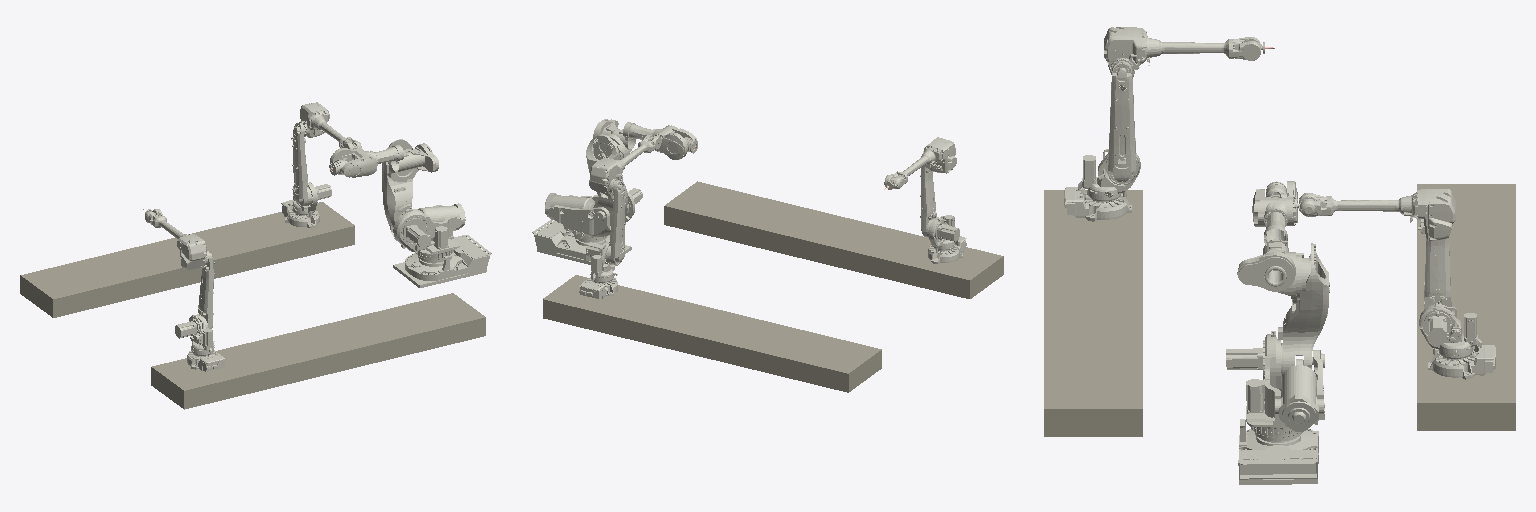
--- Facts derived from the render (not from the file) ---
Views: 3 orthographic renders of the robot side by side, from view 1: azimuth 30°, elevation 25°; view 2: azimuth 150°, elevation 25°; view 3: azimuth 270°, elevation 25°.
Model princeton_3rob_cell with 39 links and 38 joints (18 revolute, 2 prismatic, 18 fixed), rooted at world, posed all joints at 0.
Visible links, largest first — view 1: r2_axis, r1_axis, r3_base_link, r3_link_1, r3_link_4, r3_link_2, r3_link_3, r1_link_2, r2_link_1, r2_link_3, r2_link_2, r1_link_3 (+4 smaller); view 2: r1_axis, r2_axis, r3_link_1, r3_base_link, r3_link_4, r1_link_2, r3_link_2, r1_link_3, r2_link_1, r1_link_1, r2_link_3, r2_link_2 (+4 smaller); view 3: r2_axis, r1_axis, r3_link_1, r3_base_link, r3_link_2, r2_link_2, r3_link_3, r1_link_1, r3_balancer_piston, r1_link_3, r3_link_4, r2_link_3 (+6 smaller).
Boxes of the visible links, x1,y1,x2,y2 form: r2_axis: [151, 293, 485, 409]; r1_axis: [20, 202, 354, 317]; r3_base_link: [393, 235, 491, 287]; r3_link_1: [389, 205, 461, 262]; r3_link_4: [330, 145, 403, 177]; r3_link_2: [382, 139, 412, 227]; r3_link_3: [387, 143, 438, 181]; r1_link_2: [291, 123, 308, 206]; r2_link_1: [175, 314, 214, 356]; r2_link_3: [177, 234, 207, 269]; r2_link_2: [198, 251, 214, 328]; r1_link_3: [299, 102, 329, 137]; r1_axis: [543, 275, 881, 392]; r2_axis: [664, 181, 1003, 298]; r3_link_1: [548, 188, 642, 241]; r3_base_link: [532, 220, 631, 264]; r3_link_4: [623, 122, 696, 159]; r1_link_2: [609, 180, 627, 265]; r3_link_2: [586, 134, 627, 219]; r1_link_3: [589, 158, 624, 195]; r2_link_1: [927, 215, 959, 252]; r1_link_1: [586, 241, 617, 283]; r2_link_3: [923, 137, 956, 173]; r2_link_2: [920, 166, 936, 237]; r2_axis: [1044, 190, 1142, 436]; r1_axis: [1417, 184, 1515, 430]; r3_link_1: [1226, 331, 1324, 441]; r3_base_link: [1238, 419, 1318, 484]; r3_link_2: [1278, 243, 1329, 376]; r2_link_2: [1108, 61, 1135, 184]; r3_link_3: [1237, 239, 1310, 304]; r1_link_1: [1419, 301, 1481, 360]; r3_balancer_piston: [1279, 359, 1318, 431]; r1_link_3: [1402, 189, 1455, 240]; r3_link_4: [1252, 181, 1297, 245]; r2_link_3: [1104, 27, 1155, 76].
Bounding box of the posed robot: 6.41 × 4.62 × 2.32 m (x, y, z).
Meshes: 20 distinct files referenced, 27 mesh visuals loaded (19 binary STL); not drawn: 2 (reference not matched to a file when rendering).

The robot description file, URDF, robot "princeton_3rob_cell":
<?xml version="1.0" ?>
<!-- =================================================================================== -->
<!-- |    This document was autogenerated by xacro from princeton_3rob_cell.xacro      | -->
<!-- |    EDITING THIS FILE BY HAND IS NOT RECOMMENDED                                 | -->
<!-- =================================================================================== -->
<robot name="princeton_3rob_cell">
  <!-- Conversion were obtained from http://www.e-paint.co.uk/Lab_values.asp
       unless otherwise stated. -->
  <link name="world"/>
  <!-- -->
  <!--ROBOT 1-->
  <joint name="r1_world_joint" type="fixed">
    <parent link="world"/>
    <child link="r1_axis"/>
    <origin rpy="0.0 0.0 3.14159" xyz="3.6970 3.4496 0.0165"/>
  </joint>
  <!-- Conversion were obtained from http://www.e-paint.co.uk/Lab_values.asp
       unless otherwise stated. -->
  <!-- Conversion were obtained from http://www.e-paint.co.uk/Lab_values.asp
       unless otherwise stated. -->
  <!-- LINEAR AXIS -->
  <!-- linear axis link list -->
  <link name="r1_axis">
    <inertial>
      <origin xyz="0.0 0.0 0.0"/>
      <mass value="120"/>
      <inertia ixx="-4.98000" ixy="-0.00000" ixz="2.70000" iyy="-5.95200" iyz="-0.00000" izz="0.82800"/>
    </inertial>
    <visual>
      <geometry>
        <mesh filename="package://abb_on_axis/meshes/visual/axis.stl"/>
      </geometry>
      <material name="">
        <color rgba="0.7058823 0.6901961 0.6313725 1"/>
      </material>
    </visual>
    <collision>
      <geometry>
        <mesh filename="package://abb_on_axis/meshes/collision/axis.stl"/>
      </geometry>
      <material name="">
        <color rgba="0.7058823 0.6901961 0.6313725 1"/>
      </material>
    </collision>
  </link>
  <link name="r1_cart">
    <inertial>
      <origin xyz="0.0 0.0 0.0"/>
      <mass value="120.00000"/>
      <inertia ixx="-4.98000" ixy="-0.00000" ixz="2.70000" iyy="-5.95200" iyz="-0.00000" izz="0.82800"/>
    </inertial>
    <visual>
      <geometry>
        <mesh filename="package://abb_on_axis/meshes/visual/cart.stl"/>
      </geometry>
      <material name="">
        <color rgba="0.8392157 0.8352941 0.7921569 1"/>
      </material>
    </visual>
    <collision>
      <geometry>
        <mesh filename="package://abb_on_axis/meshes/collision/cart.stl"/>
      </geometry>
      <material name="">
        <color rgba="0.8392157 0.8352941 0.7921569 1"/>
      </material>
    </collision>
  </link>
  <!-- linear axis joint list -->
  <joint name="r1_cart_joint" type="prismatic">
    <parent link="r1_axis"/>
    <child link="r1_cart"/>
    <origin rpy="0 0 0 " xyz="0 0 0"/>
    <axis xyz="1 0 0"/>
    <limit effort="100000" lower="0" upper="3.9" velocity="2.618"/>
    <dynamics damping="0.2" friction="0"/>
  </joint>
  <joint name="r1_abb_joint" type="fixed">
    <parent link="r1_cart"/>
    <child link="r1_base_link"/>
    <origin rpy="0 0 1.5707963267948966 " xyz="0 0 0 "/>
    <dynamics damping="0.2" friction="0"/>
  </joint>
  <!-- ARE WE MISSING A WORLD TO AXIS fixed joint? for only the abb_on_axis group?-->
  <!-- GRIPPER -->
  <!-- gripper link list -->
  <link name="r1_gripper">
    <visual>
      <geometry>
        <mesh filename="package://abb_irb4600_40_255/meshes/visual/calibration_tool_R1.stl"/>
      </geometry>
      <material name="">
        <color rgba="1.0 0.8 0.796078431372549 1"/>
      </material>
    </visual>
    <collision>
      <geometry>
        <mesh filename="package://abb_irb4600_40_255/meshes/collision/calibration_tool_R1.stl"/>
      </geometry>
      <material name="">
        <color rgba="1.0 0.8 0.796078431372549 1"/>
      </material>
    </collision>
  </link>
  <link name="r1_tcp"/>
  <!-- gripper joint list -->
  <joint name="r1_gripper_joint" type="fixed">
    <parent link="r1_tool0"/>
    <child link="r1_gripper"/>
    <origin rpy="0 0 0" xyz="0 0 0"/>
  </joint>
  <joint name="r1_tcp_joint" type="fixed">
    <parent link="r1_gripper"/>
    <child link="r1_tcp"/>
    <origin rpy="0 0 0" xyz="-0.000441033 -0.0000930574 0.1642732"/>
  </joint>
  <!-- IRB4600 -->
  <!-- irb4600 link list -->
  <link name="r1_base_link">
    <inertial>
      <origin xyz="0.0 0.0 0.0"/>
      <mass value="120.00000"/>
      <inertia ixx="-4.98000" ixy="-0.00000" ixz="2.70000" iyy="-5.95200" iyz="-0.00000" izz="0.82800"/>
    </inertial>
    <visual>
      <geometry>
        <mesh filename="package://abb_irb4600_40_255/meshes/visual/base_link.stl"/>
      </geometry>
      <material name="">
        <color rgba="0.8392157 0.8352941 0.7921569 1"/>
      </material>
    </visual>
    <collision>
      <geometry>
        <mesh filename="package://abb_irb4600_40_255/meshes/collision/base_link.stl"/>
      </geometry>
      <material name="">
        <color rgba="0.8392157 0.8352941 0.7921569 1"/>
      </material>
    </collision>
  </link>
  <link name="r1_link_1">
    <inertial>
      <origin xyz="0.18000 0.00000 0.50000"/>
      <mass value="120.00000"/>
      <inertia ixx="-4.98000" ixy="-0.00000" ixz="2.70000" iyy="-5.95200" iyz="-0.00000" izz="0.82800"/>
    </inertial>
    <visual>
      <geometry>
        <mesh filename="package://abb_irb4600_40_255/meshes/visual/link_1.stl"/>
      </geometry>
      <material name="">
        <color rgba="0.8392157 0.8352941 0.7921569 1"/>
      </material>
    </visual>
    <collision>
      <geometry>
        <mesh filename="package://abb_irb4600_40_255/meshes/collision/link_1.stl"/>
      </geometry>
      <material name="">
        <color rgba="0.8392157 0.8352941 0.7921569 1"/>
      </material>
    </collision>
  </link>
  <link name="r1_link_2">
    <inertial>
      <origin xyz="0.94000 0.08000 -0.34000"/>
      <mass value="120.00000"/>
      <inertia ixx="-2.96000" ixy="2.25600" ixz="-9.58800" iyy="-18.72601" iyz="-0.81600" izz="-14.95000"/>
    </inertial>
    <visual>
      <geometry>
        <mesh filename="package://abb_irb4600_40_255/meshes/visual/link_2.stl"/>
      </geometry>
      <material name="">
        <color rgba="0.8392157 0.8352941 0.7921569 1"/>
      </material>
    </visual>
    <collision>
      <geometry>
        <mesh filename="package://abb_irb4600_40_255/meshes/collision/link_2.stl"/>
      </geometry>
      <material name="">
        <color rgba="0.8392157 0.8352941 0.7921569 1"/>
      </material>
    </collision>
  </link>
  <link name="r1_link_3">
    <inertial>
      <origin xyz="0.07000 -0.26600 0.08800"/>
      <mass value="120.00000"/>
      <inertia ixx="1.34500" ixy="-0.55860" ixz="0.18480" iyy="4.65068" iyz="-0.70224" izz="2.76032"/>
    </inertial>
    <visual>
      <geometry>
        <mesh filename="package://abb_irb4600_40_255/meshes/visual/link_3.stl"/>
      </geometry>
      <material name="">
        <color rgba="0.8392157 0.8352941 0.7921569 1"/>
      </material>
    </visual>
    <collision>
      <geometry>
        <mesh filename="package://abb_irb4600_40_255/meshes/collision/link_3.stl"/>
      </geometry>
      <material name="">
        <color rgba="0.8392157 0.8352941 0.7921569 1"/>
      </material>
    </collision>
  </link>
  <link name="r1_link_4">
    <inertial>
      <origin xyz="0.00000 0.00000 1.00000"/>
      <mass value="40.00000"/>
      <inertia ixx="-8.00000" ixy="-0.00000" ixz="-0.00000" iyy="-8.00000" iyz="-0.00000" izz="0.48200"/>
    </inertial>
    <visual>
      <geometry>
        <mesh filename="package://abb_irb4600_40_255/meshes/visual/link_4.stl"/>
      </geometry>
      <material name="">
        <color rgba="0.8392157 0.8352941 0.7921569 1"/>
      </material>
    </visual>
    <collision>
      <geometry>
        <mesh filename="package://abb_irb4600_40_255/meshes/collision/link_4.stl"/>
      </geometry>
      <material name="">
        <color rgba="0.8392157 0.8352941 0.7921569 1"/>
      </material>
    </collision>
  </link>
  <link name="r1_link_5">
    <inertial>
      <origin xyz="0.14000 0.00000 0.00000"/>
      <mass value="10.00000"/>
      <inertia ixx="0.04000" ixy="-0.00000" ixz="-0.00000" iyy="-0.00900" iyz="-0.00000" izz="-0.00400"/>
    </inertial>
    <visual>
      <geometry>
        <mesh filename="package://abb_irb4600_40_255/meshes/visual/link_5.stl"/>
      </geometry>
      <material name="">
        <color rgba="0.8392157 0.8352941 0.7921569 1"/>
      </material>
    </visual>
    <collision>
      <geometry>
        <mesh filename="package://abb_irb4600_40_255/meshes/collision/link_5.stl"/>
      </geometry>
      <material name="">
        <color rgba="0.8392157 0.8352941 0.7921569 1"/>
      </material>
    </collision>
  </link>
  <link name="r1_link_6">
    <inertial>
      <origin xyz="0.08100 -0.09100 0.33200"/>
      <mass value="5.00000"/>
      <inertia ixx="-0.29652" ixy="-0.03686" ixz="0.09396" iyy="-0.28792" iyz="-0.10556" izz="-0.04621"/>
    </inertial>
    <visual>
      <geometry>
        <mesh filename="package://abb_irb4600_40_255/meshes/visual/link_6.stl"/>
      </geometry>
      <material name="">
        <color rgba="0.8392157 0.8352941 0.7921569 1"/>
      </material>
    </visual>
    <collision>
      <geometry>
        <mesh filename="package://abb_irb4600_40_255/meshes/collision/link_6.stl"/>
      </geometry>
      <material name="">
        <color rgba="0.8392157 0.8352941 0.7921569 1"/>
      </material>
    </collision>
  </link>
  <link name="r1_tool0"/>
  <!-- irb4600 joint list -->
  <joint name="r1_joint_1" type="revolute">
    <parent link="r1_base_link"/>
    <child link="r1_link_1"/>
    <origin rpy="0 0 0" xyz="0 0 0.495"/>
    <axis xyz="0 0 1"/>
    <limit effort="100000" lower="-3.141592653589793" upper="3.141592653589793" velocity="2.618"/>
    <dynamics damping="0.2" friction="0"/>
  </joint>
  <joint name="r1_joint_2" type="revolute">
    <parent link="r1_link_1"/>
    <child link="r1_link_2"/>
    <origin rpy="0 0 0" xyz="0.175 0 0"/>
    <axis xyz="0 1 0"/>
    <limit effort="100000" lower="-1.3089969389957472" upper="2.6179938779914944" velocity="2.618"/>
    <dynamics damping="0.2" friction="0"/>
  </joint>
  <joint name="r1_joint_3" type="revolute">
    <parent link="r1_link_2"/>
    <child link="r1_link_3"/>
    <origin rpy="0 0 0" xyz="0 0 1.095"/>
    <axis xyz="0 1 0"/>
    <limit effort="100000" lower="-3.141592653589793" upper="1.3089969389957472" velocity="2.618"/>
    <dynamics damping="0.2" friction="0"/>
  </joint>
  <joint name="r1_joint_4" type="revolute">
    <parent link="r1_link_3"/>
    <child link="r1_link_4"/>
    <origin rpy="0 0 0" xyz="0 0 0.175"/>
    <axis xyz="1 0 0"/>
    <limit effort="10000" lower="-6.981317007977318" upper="6.981317007977318" velocity="6.2832"/>
    <dynamics damping="0.2" friction="0"/>
  </joint>
  <joint name="r1_joint_5" type="revolute">
    <parent link="r1_link_4"/>
    <child link="r1_link_5"/>
    <origin rpy="0 0 0" xyz="1.270 0 0"/>
    <axis xyz="0 1 0"/>
    <limit effort="100000" lower="-2.181661564992912" upper="2.0943951023931953" velocity="6.2832"/>
    <dynamics damping="0.2" friction="0"/>
  </joint>
  <joint name="r1_joint_6" type="revolute">
    <parent link="r1_link_5"/>
    <child link="r1_link_6"/>
    <origin rpy="0 0 0" xyz="0.135 0 0"/>
    <axis xyz="1 0 0"/>
    <limit effort="100000" lower="-6.981317007977318" upper="6.981317007977318" velocity="7.854"/>
    <dynamics damping="0.2" friction="0"/>
  </joint>
  <joint name="r1_joint_6-tool0" type="fixed">
    <parent link="r1_link_6"/>
    <child link="r1_tool0"/>
    <origin rpy="0 1.5707963267948966 0" xyz="0 0 0"/>
  </joint>
  <!-- -->
  <!-- IRB4600 base_link to ABB World Coordinates transform -->
  <link name="r1_base"/>
  <joint name="r1_base_link-base" type="fixed">
    <parent link="r1_base_link"/>
    <child link="r1_base"/>
    <origin rpy="0 0 0" xyz="0 0 0"/>
  </joint>
  <!-- -->
  <!--ROBOT 2-->
  <joint name="r2_world_joint" type="fixed">
    <parent link="world"/>
    <child link="r2_axis"/>
    <origin rpy="0.0 0.0 0.0" xyz="0.0 0.00178 0.00044"/>
  </joint>
  <!-- Conversion were obtained from http://www.e-paint.co.uk/Lab_values.asp
       unless otherwise stated. -->
  <!-- Conversion were obtained from http://www.e-paint.co.uk/Lab_values.asp
       unless otherwise stated. -->
  <!-- LINEAR AXIS -->
  <!-- linear axis link list -->
  <link name="r2_axis">
    <inertial>
      <origin xyz="0.0 0.0 0.0"/>
      <mass value="120"/>
      <inertia ixx="-4.98000" ixy="-0.00000" ixz="2.70000" iyy="-5.95200" iyz="-0.00000" izz="0.82800"/>
    </inertial>
    <visual>
      <geometry>
        <mesh filename="package://abb_on_axis/meshes/visual/axis.stl"/>
      </geometry>
      <material name="">
        <color rgba="0.7058823 0.6901961 0.6313725 1"/>
      </material>
    </visual>
    <collision>
      <geometry>
        <mesh filename="package://abb_on_axis/meshes/collision/axis.stl"/>
      </geometry>
      <material name="">
        <color rgba="0.7058823 0.6901961 0.6313725 1"/>
      </material>
    </collision>
  </link>
  <link name="r2_cart">
    <inertial>
      <origin xyz="0.0 0.0 0.0"/>
      <mass value="120.00000"/>
      <inertia ixx="-4.98000" ixy="-0.00000" ixz="2.70000" iyy="-5.95200" iyz="-0.00000" izz="0.82800"/>
    </inertial>
    <visual>
      <geometry>
        <mesh filename="package://abb_on_axis/meshes/visual/cart.stl"/>
      </geometry>
      <material name="">
        <color rgba="0.8392157 0.8352941 0.7921569 1"/>
      </material>
    </visual>
    <collision>
      <geometry>
        <mesh filename="package://abb_on_axis/meshes/collision/cart.stl"/>
      </geometry>
      <material name="">
        <color rgba="0.8392157 0.8352941 0.7921569 1"/>
      </material>
    </collision>
  </link>
  <!-- linear axis joint list -->
  <joint name="r2_cart_joint" type="prismatic">
    <parent link="r2_axis"/>
    <child link="r2_cart"/>
    <origin rpy="0 0 0 " xyz="0 0 0"/>
    <axis xyz="1 0 0"/>
    <limit effort="100000" lower="0" upper="3.9" velocity="2.618"/>
    <dynamics damping="0.2" friction="0"/>
  </joint>
  <joint name="r2_abb_joint" type="fixed">
    <parent link="r2_cart"/>
    <child link="r2_base_link"/>
    <origin rpy="0 0 1.5707963267948966 " xyz="0 0 0 "/>
    <dynamics damping="0.2" friction="0"/>
  </joint>
  <!-- ARE WE MISSING A WORLD TO AXIS fixed joint? for only the abb_on_axis group?-->
  <!-- GRIPPER -->
  <!-- gripper link list -->
  <link name="r2_gripper">
    <visual>
      <geometry>
        <mesh filename="package://abb_irb4600_40_255/meshes/visual/calibration_tool_R2.stl"/>
      </geometry>
      <material name="">
        <color rgba="1.0 0.8 0.796078431372549 1"/>
      </material>
    </visual>
    <collision>
      <geometry>
        <mesh filename="package://abb_irb4600_40_255/meshes/collision/calibration_tool_R2.stl"/>
      </geometry>
      <material name="">
        <color rgba="1.0 0.8 0.796078431372549 1"/>
      </material>
    </collision>
  </link>
  <link name="r2_tcp"/>
  <!-- gripper joint list -->
  <joint name="r2_gripper_joint" type="fixed">
    <parent link="r2_tool0"/>
    <child link="r2_gripper"/>
    <origin rpy="0 0 0" xyz="0 0 0"/>
  </joint>
  <joint name="r2_tcp_joint" type="fixed">
    <parent link="r2_gripper"/>
    <child link="r2_tcp"/>
    <origin rpy="0 0 0" xyz="0.000473456 0.000169985 0.163856"/>
  </joint>
  <!-- IRB4600 -->
  <!-- irb4600 link list -->
  <link name="r2_base_link">
    <inertial>
      <origin xyz="0.0 0.0 0.0"/>
      <mass value="120.00000"/>
      <inertia ixx="-4.98000" ixy="-0.00000" ixz="2.70000" iyy="-5.95200" iyz="-0.00000" izz="0.82800"/>
    </inertial>
    <visual>
      <geometry>
        <mesh filename="package://abb_irb4600_40_255/meshes/visual/base_link.stl"/>
      </geometry>
      <material name="">
        <color rgba="0.8392157 0.8352941 0.7921569 1"/>
      </material>
    </visual>
    <collision>
      <geometry>
        <mesh filename="package://abb_irb4600_40_255/meshes/collision/base_link.stl"/>
      </geometry>
      <material name="">
        <color rgba="0.8392157 0.8352941 0.7921569 1"/>
      </material>
    </collision>
  </link>
  <link name="r2_link_1">
    <inertial>
      <origin xyz="0.18000 0.00000 0.50000"/>
      <mass value="120.00000"/>
      <inertia ixx="-4.98000" ixy="-0.00000" ixz="2.70000" iyy="-5.95200" iyz="-0.00000" izz="0.82800"/>
    </inertial>
    <visual>
      <geometry>
        <mesh filename="package://abb_irb4600_40_255/meshes/visual/link_1.stl"/>
      </geometry>
      <material name="">
        <color rgba="0.8392157 0.8352941 0.7921569 1"/>
      </material>
    </visual>
    <collision>
      <geometry>
        <mesh filename="package://abb_irb4600_40_255/meshes/collision/link_1.stl"/>
      </geometry>
      <material name="">
        <color rgba="0.8392157 0.8352941 0.7921569 1"/>
      </material>
    </collision>
  </link>
  <link name="r2_link_2">
    <inertial>
      <origin xyz="0.94000 0.08000 -0.34000"/>
      <mass value="120.00000"/>
      <inertia ixx="-2.96000" ixy="2.25600" ixz="-9.58800" iyy="-18.72601" iyz="-0.81600" izz="-14.95000"/>
    </inertial>
    <visual>
      <geometry>
        <mesh filename="package://abb_irb4600_40_255/meshes/visual/link_2.stl"/>
      </geometry>
      <material name="">
        <color rgba="0.8392157 0.8352941 0.7921569 1"/>
      </material>
    </visual>
    <collision>
      <geometry>
        <mesh filename="package://abb_irb4600_40_255/meshes/collision/link_2.stl"/>
      </geometry>
      <material name="">
        <color rgba="0.8392157 0.8352941 0.7921569 1"/>
      </material>
    </collision>
  </link>
  <link name="r2_link_3">
    <inertial>
      <origin xyz="0.07000 -0.26600 0.08800"/>
      <mass value="120.00000"/>
      <inertia ixx="1.34500" ixy="-0.55860" ixz="0.18480" iyy="4.65068" iyz="-0.70224" izz="2.76032"/>
    </inertial>
    <visual>
      <geometry>
        <mesh filename="package://abb_irb4600_40_255/meshes/visual/link_3.stl"/>
      </geometry>
      <material name="">
        <color rgba="0.8392157 0.8352941 0.7921569 1"/>
      </material>
    </visual>
    <collision>
      <geometry>
        <mesh filename="package://abb_irb4600_40_255/meshes/collision/link_3.stl"/>
      </geometry>
      <material name="">
        <color rgba="0.8392157 0.8352941 0.7921569 1"/>
      </material>
    </collision>
  </link>
  <link name="r2_link_4">
    <inertial>
      <origin xyz="0.00000 0.00000 1.00000"/>
      <mass value="40.00000"/>
      <inertia ixx="-8.00000" ixy="-0.00000" ixz="-0.00000" iyy="-8.00000" iyz="-0.00000" izz="0.48200"/>
    </inertial>
    <visual>
      <geometry>
        <mesh filename="package://abb_irb4600_40_255/meshes/visual/link_4.stl"/>
      </geometry>
      <material name="">
        <color rgba="0.8392157 0.8352941 0.7921569 1"/>
      </material>
    </visual>
    <collision>
      <geometry>
        <mesh filename="package://abb_irb4600_40_255/meshes/collision/link_4.stl"/>
      </geometry>
      <material name="">
        <color rgba="0.8392157 0.8352941 0.7921569 1"/>
      </material>
    </collision>
  </link>
  <link name="r2_link_5">
    <inertial>
      <origin xyz="0.14000 0.00000 0.00000"/>
      <mass value="10.00000"/>
      <inertia ixx="0.04000" ixy="-0.00000" ixz="-0.00000" iyy="-0.00900" iyz="-0.00000" izz="-0.00400"/>
    </inertial>
    <visual>
      <geometry>
        <mesh filename="package://abb_irb4600_40_255/meshes/visual/link_5.stl"/>
      </geometry>
      <material name="">
        <color rgba="0.8392157 0.8352941 0.7921569 1"/>
      </material>
    </visual>
    <collision>
      <geometry>
        <mesh filename="package://abb_irb4600_40_255/meshes/collision/link_5.stl"/>
      </geometry>
      <material name="">
        <color rgba="0.8392157 0.8352941 0.7921569 1"/>
      </material>
    </collision>
  </link>
  <link name="r2_link_6">
    <inertial>
      <origin xyz="0.08100 -0.09100 0.33200"/>
      <mass value="5.00000"/>
      <inertia ixx="-0.29652" ixy="-0.03686" ixz="0.09396" iyy="-0.28792" iyz="-0.10556" izz="-0.04621"/>
    </inertial>
    <visual>
      <geometry>
        <mesh filename="package://abb_irb4600_40_255/meshes/visual/link_6.stl"/>
      </geometry>
      <material name="">
        <color rgba="0.8392157 0.8352941 0.7921569 1"/>
      </material>
    </visual>
    <collision>
      <geometry>
        <mesh filename="package://abb_irb4600_40_255/meshes/collision/link_6.stl"/>
      </geometry>
      <material name="">
        <color rgba="0.8392157 0.8352941 0.7921569 1"/>
      </material>
    </collision>
  </link>
  <link name="r2_tool0"/>
  <!-- irb4600 joint list -->
  <joint name="r2_joint_1" type="revolute">
    <parent link="r2_base_link"/>
    <child link="r2_link_1"/>
    <origin rpy="0 0 0" xyz="0 0 0.495"/>
    <axis xyz="0 0 1"/>
    <limit effort="100000" lower="-3.141592653589793" upper="3.141592653589793" velocity="2.618"/>
    <dynamics damping="0.2" friction="0"/>
  </joint>
  <joint name="r2_joint_2" type="revolute">
    <parent link="r2_link_1"/>
    <child link="r2_link_2"/>
    <origin rpy="0 0 0" xyz="0.175 0 0"/>
    <axis xyz="0 1 0"/>
    <limit effort="100000" lower="-1.3089969389957472" upper="2.6179938779914944" velocity="2.618"/>
    <dynamics damping="0.2" friction="0"/>
  </joint>
  <joint name="r2_joint_3" type="revolute">
    <parent link="r2_link_2"/>
    <child link="r2_link_3"/>
    <origin rpy="0 0 0" xyz="0 0 1.095"/>
    <axis xyz="0 1 0"/>
    <limit effort="100000" lower="-3.141592653589793" upper="1.3089969389957472" velocity="2.618"/>
    <dynamics damping="0.2" friction="0"/>
  </joint>
  <joint name="r2_joint_4" type="revolute">
    <parent link="r2_link_3"/>
    <child link="r2_link_4"/>
    <origin rpy="0 0 0" xyz="0 0 0.175"/>
    <axis xyz="1 0 0"/>
    <limit effort="10000" lower="-6.981317007977318" upper="6.981317007977318" velocity="6.2832"/>
    <dynamics damping="0.2" friction="0"/>
  </joint>
  <joint name="r2_joint_5" type="revolute">
    <parent link="r2_link_4"/>
    <child link="r2_link_5"/>
    <origin rpy="0 0 0" xyz="1.270 0 0"/>
    <axis xyz="0 1 0"/>
    <limit effort="100000" lower="-2.181661564992912" upper="2.0943951023931953" velocity="6.2832"/>
    <dynamics damping="0.2" friction="0"/>
  </joint>
  <joint name="r2_joint_6" type="revolute">
    <parent link="r2_link_5"/>
    <child link="r2_link_6"/>
    <origin rpy="0 0 0" xyz="0.135 0 0"/>
    <axis xyz="1 0 0"/>
    <limit effort="100000" lower="-6.981317007977318" upper="6.981317007977318" velocity="7.854"/>
    <dynamics damping="0.2" friction="0"/>
  </joint>
  <joint name="r2_joint_6-tool0" type="fixed">
    <parent link="r2_link_6"/>
    <child link="r2_tool0"/>
    <origin rpy="0 1.5707963267948966 0" xyz="0 0 0"/>
  </joint>
  <!-- -->
  <!-- IRB4600 base_link to ABB World Coordinates transform -->
  <link name="r2_base"/>
  <joint name="r2_base_link-base" type="fixed">
    <parent link="r2_base_link"/>
    <child link="r2_base"/>
    <origin rpy="0 0 0" xyz="0 0 0"/>
  </joint>
  <!-- -->
  <!--ROBOT 3-->
  <joint name="r3_world_joint" type="fixed">
    <parent link="world"/>
    <child link="r3_base_link"/>
    <origin rpy="-0.019001374398830925 0.00022822725853081357 3.1326456328791554" xyz="4.886272 1.716257 -0.322108"/>
  </joint>
  <!-- GRIPPER -->
  <!-- gripper link list -->
  <link name="r3_gripper">
    <visual>
      <geometry>
        <mesh filename="package://abb_irb7600_400_255/meshes/visual/calibration_tool.stl"/>
      </geometry>
      <material name="">
        <color rgba="1.0 0.8 0.796078431372549 1"/>
      </material>
    </visual>
    <collision>
      <geometry>
        <mesh filename="package://abb_irb7600_400_255/meshes/collision/calibration_tool.stl"/>
      </geometry>
      <material name="">
        <color rgba="1.0 0.8 0.796078431372549 1"/>
      </material>
    </collision>
  </link>
  <link name="r3_tcp"/>
  <!-- gripper joint list -->
  <joint name="r3_gripper_joint" type="fixed">
    <parent link="r3_tool0"/>
    <child link="r3_gripper"/>
    <origin rpy="0 0 0" xyz="0 0 0"/>
  </joint>
  <joint name="r3_tcp_joint" type="fixed">
    <parent link="r3_gripper"/>
    <child link="r3_tcp"/>
    <origin rpy="0 0 0" xyz="0.000583723 0.0000236933 0.0779321"/>
  </joint>
  <!-- IRB7600-->
  <!-- irb7600 link list -->
  <link name="r3_base_link">
    <visual>
      <geometry>
        <mesh filename="package://abb_irb7600_400_255/meshes/visual/base_link.stl"/>
      </geometry>
      <material name="">
        <color rgba="0.8392157 0.8352941 0.7921569 1"/>
      </material>
    </visual>
    <collision>
      <geometry>
        <mesh filename="package://abb_irb7600_400_255/meshes/collision/base_link.stl"/>
      </geometry>
      <material name="">
        <color rgba="0.8392157 0.8352941 0.7921569 1"/>
      </material>
    </collision>
  </link>
  <link name="r3_link_1">
    <visual>
      <geometry>
        <mesh filename="package://abb_irb7600_400_255/meshes/visual/link_1.stl"/>
      </geometry>
      <material name="">
        <color rgba="0.8392157 0.8352941 0.7921569 1"/>
      </material>
    </visual>
    <collision>
      <geometry>
        <mesh filename="package://abb_irb7600_400_255/meshes/collision/link_1.stl"/>
      </geometry>
      <material name="">
        <color rgba="0.8392157 0.8352941 0.7921569 1"/>
      </material>
    </collision>
  </link>
  <link name="r3_link_2">
    <visual>
      <geometry>
        <mesh filename="package://abb_irb7600_400_255/meshes/visual/link_2.stl"/>
      </geometry>
      <material name="">
        <color rgba="0.8392157 0.8352941 0.7921569 1"/>
      </material>
    </visual>
    <collision>
      <geometry>
        <mesh filename="package://abb_irb7600_400_255/meshes/collision/link_2.stl"/>
      </geometry>
      <material name="">
        <color rgba="0.8392157 0.8352941 0.7921569 1"/>
      </material>
    </collision>
  </link>
  <link name="r3_link_3">
    <visual>
      <geometry>
        <mesh filename="package://abb_irb7600_400_255/meshes/visual/link_3.stl"/>
      </geometry>
      <material name="">
        <color rgba="0.8392157 0.8352941 0.7921569 1"/>
      </material>
    </visual>
    <collision>
      <geometry>
        <mesh filename="package://abb_irb7600_400_255/meshes/collision/link_3.stl"/>
      </geometry>
      <material name="">
        <color rgba="0.8392157 0.8352941 0.7921569 1"/>
      </material>
    </collision>
  </link>
  <link name="r3_link_4">
    <visual>
      <geometry>
        <mesh filename="package://abb_irb7600_400_255/meshes/visual/link_4.stl"/>
      </geometry>
      <material name="">
        <color rgba="0.8392157 0.8352941 0.7921569 1"/>
      </material>
    </visual>
    <collision>
      <geometry>
        <mesh filename="package://abb_irb7600_400_255/meshes/collision/link_4.stl"/>
      </geometry>
      <material name="">
        <color rgba="0.8392157 0.8352941 0.7921569 1"/>
      </material>
    </collision>
  </link>
  <link name="r3_link_5">
    <visual>
      <geometry>
        <mesh filename="package://abb_irb7600_400_255/meshes/visual/link_5.stl"/>
      </geometry>
      <material name="">
        <color rgba="0.8392157 0.8352941 0.7921569 1"/>
      </material>
    </visual>
    <collision>
      <geometry>
        <mesh filename="package://abb_irb7600_400_255/meshes/collision/link_5.stl"/>
      </geometry>
      <material name="">
        <color rgba="0.8392157 0.8352941 0.7921569 1"/>
      </material>
    </collision>
  </link>
  <link name="r3_link_6">
    <visual>
      <geometry>
        <mesh filename="package://abb_irb7600_400_255/meshes/visual/link_6.stl"/>
      </geometry>
      <material name="">
        <color rgba="0.8392157 0.8352941 0.7921569 1"/>
      </material>
    </visual>
    <collision>
      <geometry>
        <mesh filename="package://abb_irb7600_400_255/meshes/collision/link_6.stl"/>
      </geometry>
      <material name="">
        <color rgba="0.8392157 0.8352941 0.7921569 1"/>
      </material>
    </collision>
  </link>
  <link name="r3_balancer_piston">
    <visual>
      <geometry>
        <mesh filename="package://abb_irb7600_400_255/meshes/visual/balancer_piston.stl"/>
      </geometry>
      <material name="">
        <color rgba="0.8392157 0.8352941 0.7921569 1"/>
      </material>
    </visual>
    <collision>
      <geometry>
        <mesh filename="package://abb_irb7600_400_255/meshes/collision/balancer_piston.stl"/>
      </geometry>
      <material name="">
        <color rgba="0.8392157 0.8352941 0.7921569 1"/>
      </material>
    </collision>
  </link>
  <link name="r3_tool0"/>
  <!-- end of link list -->
  <!-- joint list -->
  <joint name="r3_joint_1" type="revolute">
    <parent link="r3_base_link"/>
    <child link="r3_link_1"/>
    <origin rpy="0 0 0" xyz="0 0 0"/>
    <axis xyz="0 0 1"/>
    <limit effort="0" lower="-3.141592653589793" upper="3.141592653589793" velocity="1.7453292519943295"/>
  </joint>
  <joint name="r3_joint_2" type="revolute">
    <parent link="r3_link_1"/>
    <child link="r3_link_2"/>
    <origin rpy="0 0 0" xyz="0.4100 0 0.7797"/>
    <axis xyz="0 1 0"/>
    <limit effort="0" lower="-1.0471975511965976" upper="1.4835298641951802" velocity="1.0471975511965976"/>
  </joint>
  <joint name="r3_joint_3" type="revolute">
    <parent link="r3_link_2"/>
    <child link="r3_link_3"/>
    <origin rpy="0 0 0" xyz="0 0 1.075"/>
    <axis xyz="0 1 0"/>
    <limit effort="0" lower="-3.141592653589793" upper="1.0471975511965976" velocity="1.0471975511965976"/>
  </joint>
  <joint name="r3_joint_4" type="revolute">
    <parent link="r3_link_3"/>
    <child link="r3_link_4"/>
    <origin rpy="0 0 0" xyz="0.1749 0 0.1650"/>
    <axis xyz="1 0 0"/>
    <limit effort="0" lower="-5.235987755982989" upper="5.235987755982989" velocity="1.7453292519943295"/>
  </joint>
  <joint name="r3_joint_5" type="revolute">
    <parent link="r3_link_4"/>
    <child link="r3_link_5"/>
    <origin rpy="0 0 0" xyz="0.8821 0 0"/>
    <axis xyz="0 1 0"/>
    <limit effort="0" lower="-1.7453292519943295" upper="1.7453292519943295" velocity="1.7453292519943295"/>
  </joint>
  <joint name="r3_joint_6" type="revolute">
    <parent link="r3_link_5"/>
    <child link="r3_link_6"/>
    <origin rpy="0 0 0" xyz="0.2490 0 0"/>
    <axis xyz="1 0 0"/>
    <limit effort="0" lower="-6.283185307179586" upper="6.283185307179586" velocity="3.3161255787892263"/>
  </joint>
  <joint name="r3_joint_6-tool0" type="fixed">
    <parent link="r3_link_6"/>
    <child link="r3_tool0"/>
    <origin rpy="0 1.5707963267948966 0" xyz="0 0 0"/>
  </joint>
  <joint name="r3_joint_balancer_piston" type="fixed">
    <parent link="r3_link_1"/>
    <child link="r3_balancer_piston"/>
    <origin rpy="0 0 0" xyz="-0.3779 0 0.6536"/>
  </joint>
  <!-- -->
  <!-- ROS-Industrial 'base' frame: base_link to ABB World Coordinates transform -->
  <link name="r3_base"/>
  <joint name="r3_base_link-base" type="fixed">
    <parent link="r3_base_link"/>
    <child link="r3_base"/>
    <origin rpy="0 0 0" xyz="0 0 0"/>
  </joint>
</robot>
